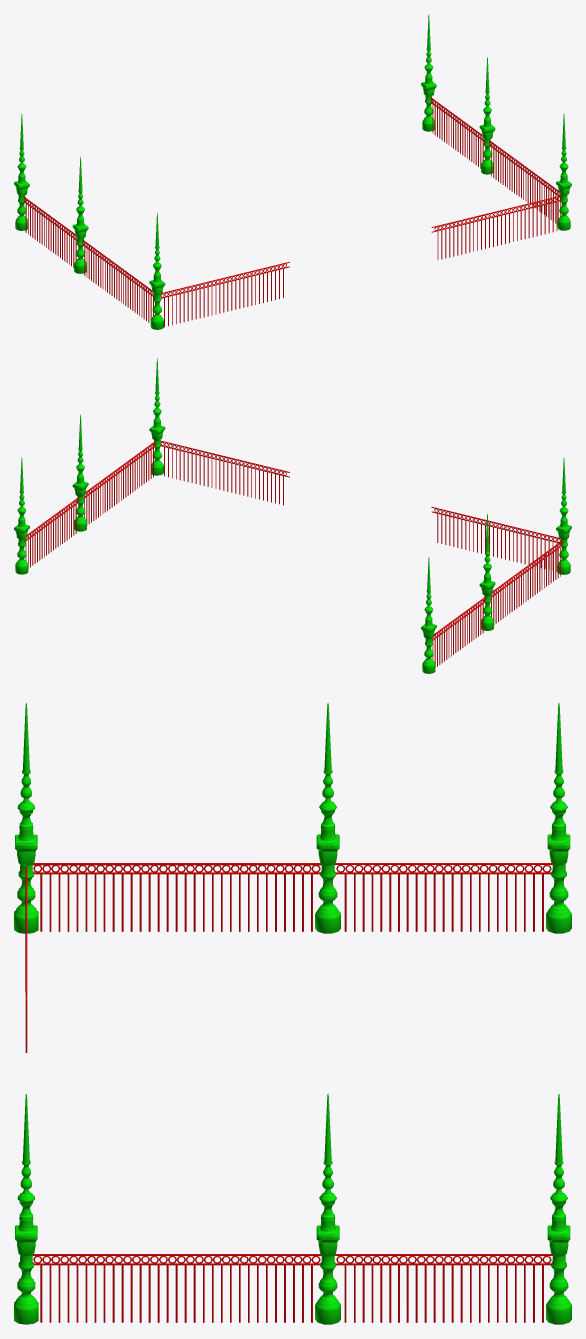
The model's file is BarriereAnges.fbx.
The picture shows the model from 3 angles, top to bottom: view 1: azimuth 30°, elevation 25°; view 2: azimuth 150°, elevation 25°; view 3: azimuth 270°, elevation 25°; orthographic projection. The views are drawn at different scales.
Visible parts, largest first — view 1: poteau_gauche1 (×4), poteau_gauche2 (×2); view 2: poteau_gauche1 (×4), poteau_gauche2 (×2); view 3: poteau_gauche1 (×4), poteau_gauche2 (×2), pCylinder21 (×2), pCylinder20.
Part boxes in pixels (x1,y1,x2,y2): poteau_gauche1 (×4): (72,57,571,329); poteau_gauche2 (×2): (14,14,436,230); poteau_gauche1 (×4): (72,358,571,630); poteau_gauche2 (×2): (14,457,436,673); poteau_gauche1 (×4): (14,703,340,1324); poteau_gauche2 (×2): (546,703,571,1324); pCylinder21 (×2): (32,872,321,1265); pCylinder20: (32,863,321,865).
Size of the model in its own units: 3302 by 878 by 1938.
